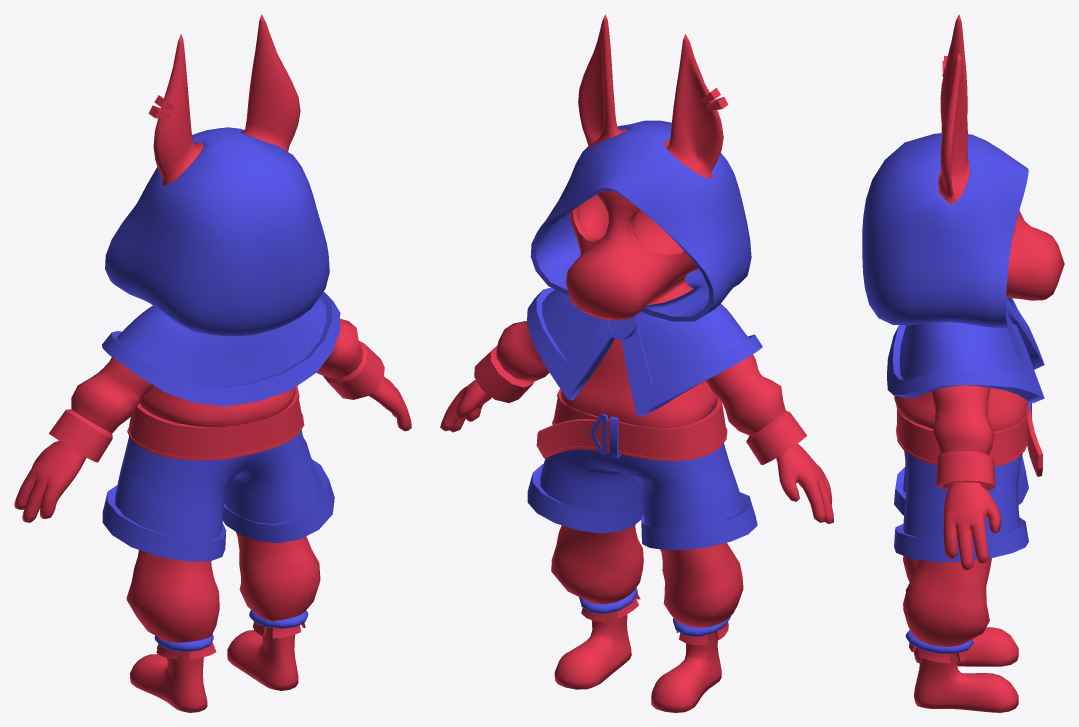
File: personagem_principallowpoly.fbx
3 renders of one model, left to right at view 1: azimuth 30°, elevation 25°; view 2: azimuth 150°, elevation 25°; view 3: azimuth 270°, elevation 25°, orthographic. The views are drawn at different scales.
Visible parts, largest first — view 1: capa2_lp, shorts_lp, corpo_lp, calca_lp, blusa_lp, cinto_lp, detalhe calça; view 2: capa2_lp, corpo_lp, shorts_lp, blusa_lp, calca_lp, cinto_lp, detalhe calça, detalhecinto_lp; view 3: capa2_lp, corpo_lp, blusa_lp, shorts_lp, calca_lp, cinto_lp, detalhe calça.
Part boxes in pixels (x1=…): capa2_lp: x1=102, y1=127, x2=340, y2=406; shorts_lp: x1=102, y1=430, x2=334, y2=561; corpo_lp: x1=14, y1=14, x2=411, y2=712; calca_lp: x1=126, y1=532, x2=320, y2=659; blusa_lp: x1=49, y1=319, x2=384, y2=462; cinto_lp: x1=127, y1=386, x2=304, y2=460; detalhe calça: x1=154, y1=610, x2=308, y2=651; capa2_lp: x1=527, y1=120, x2=762, y2=416; corpo_lp: x1=440, y1=14, x2=833, y2=712; shorts_lp: x1=527, y1=408, x2=757, y2=549; blusa_lp: x1=474, y1=280, x2=806, y2=464; calca_lp: x1=551, y1=525, x2=743, y2=645; cinto_lp: x1=536, y1=389, x2=727, y2=461; detalhe calça: x1=579, y1=587, x2=730, y2=636; detalhecinto_lp: x1=590, y1=414, x2=621, y2=458; capa2_lp: x1=862, y1=133, x2=1044, y2=403; corpo_lp: x1=913, y1=14, x2=1064, y2=712; blusa_lp: x1=894, y1=385, x2=1027, y2=490; shorts_lp: x1=894, y1=451, x2=1028, y2=562; calca_lp: x1=903, y1=556, x2=991, y2=662; cinto_lp: x1=896, y1=405, x2=1042, y2=476; detalhe calça: x1=905, y1=588, x2=973, y2=653.
Bounding box in the file's own units: 459 × 749 × 212.
